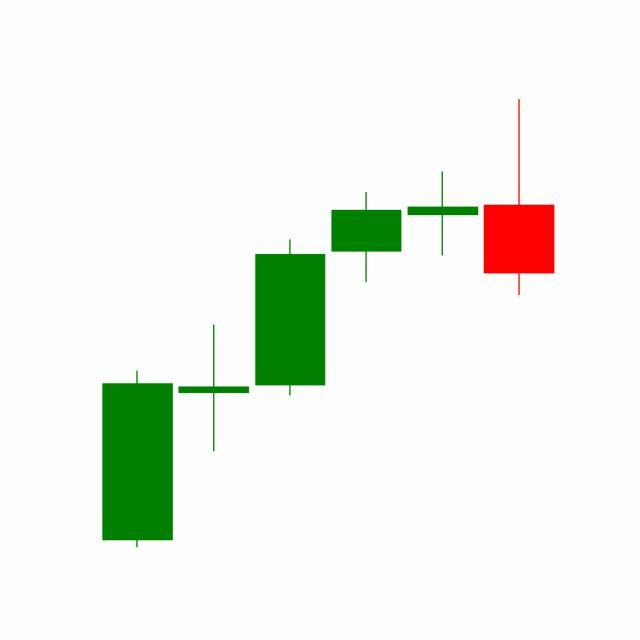Advance Block: (252, 169, 482, 399)
